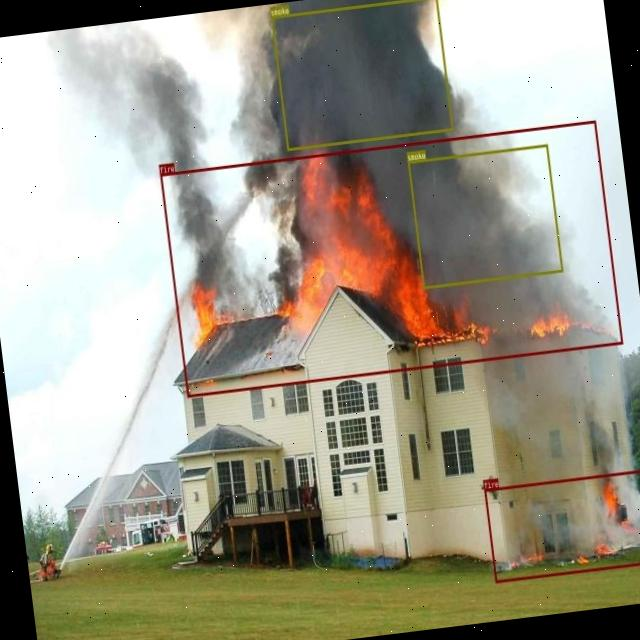fire: (160, 120, 623, 397), (484, 467, 640, 582)
smoke: (270, 0, 452, 149), (407, 144, 563, 288)
